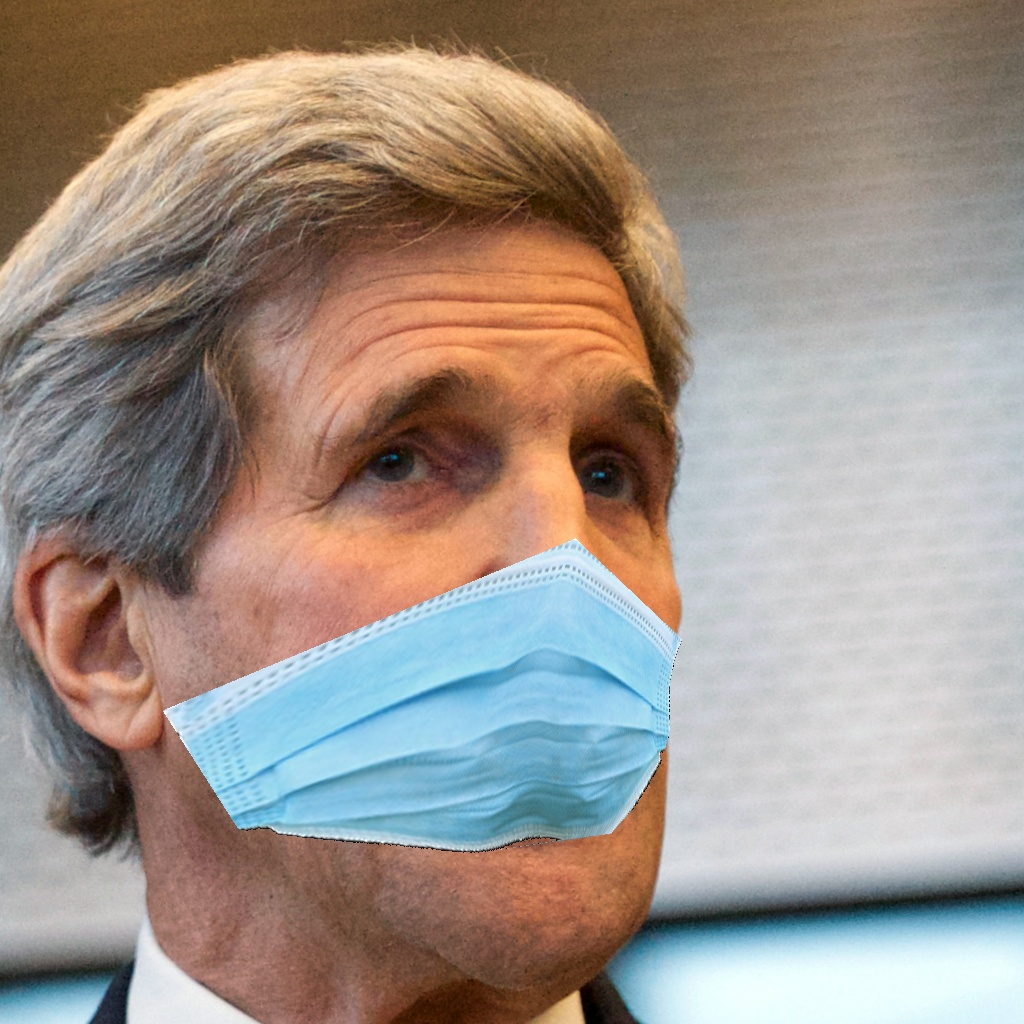mascarilla_mal_puesta: (92, 285, 702, 968)
